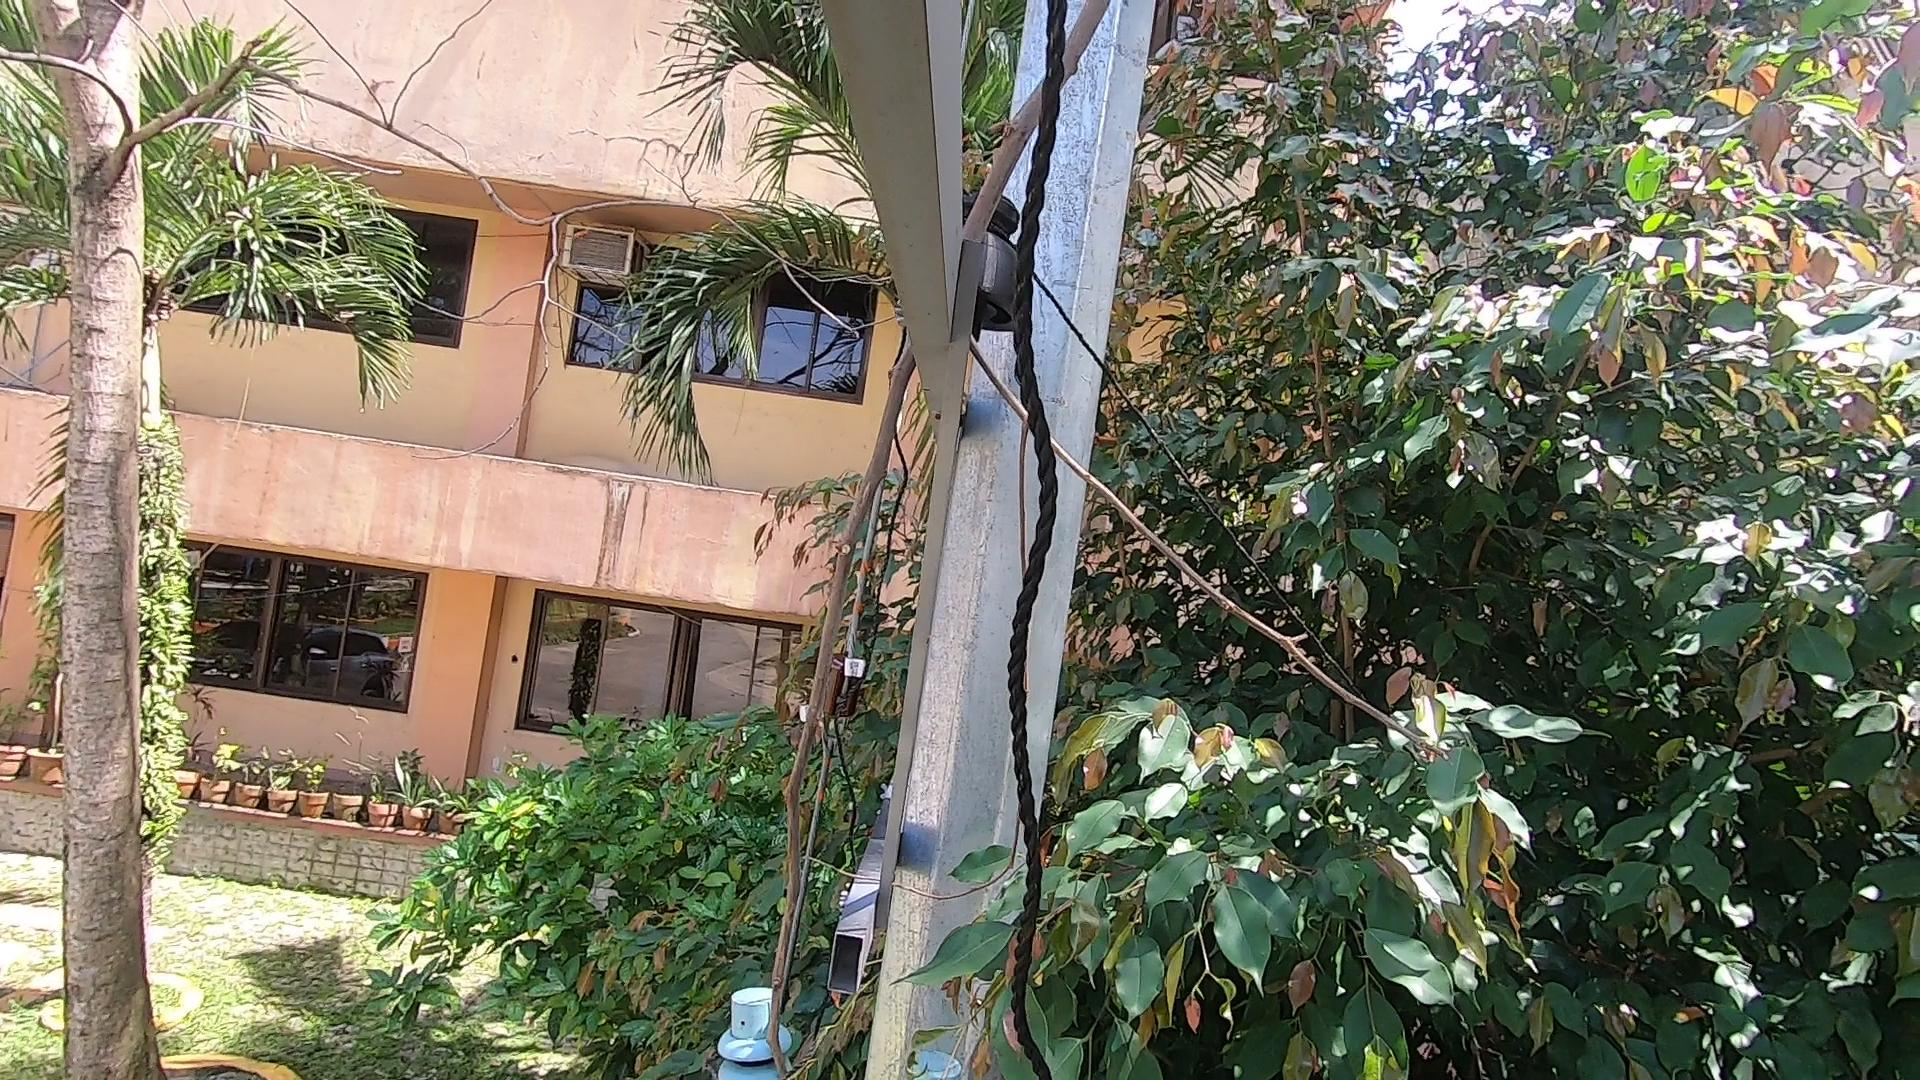branch with leaves: (858, 858, 1203, 1080)
tree branch: (733, 22, 1112, 1080)
